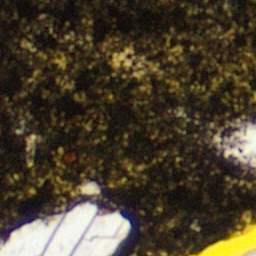cement_matrix: (0, 0, 255, 255), (79, 182, 98, 197), (115, 54, 127, 64)
cracks: (188, 222, 255, 255)
gravel_crushed_stones: (0, 206, 125, 255), (219, 122, 255, 169), (80, 183, 97, 196), (116, 55, 126, 63), (243, 250, 255, 255)
